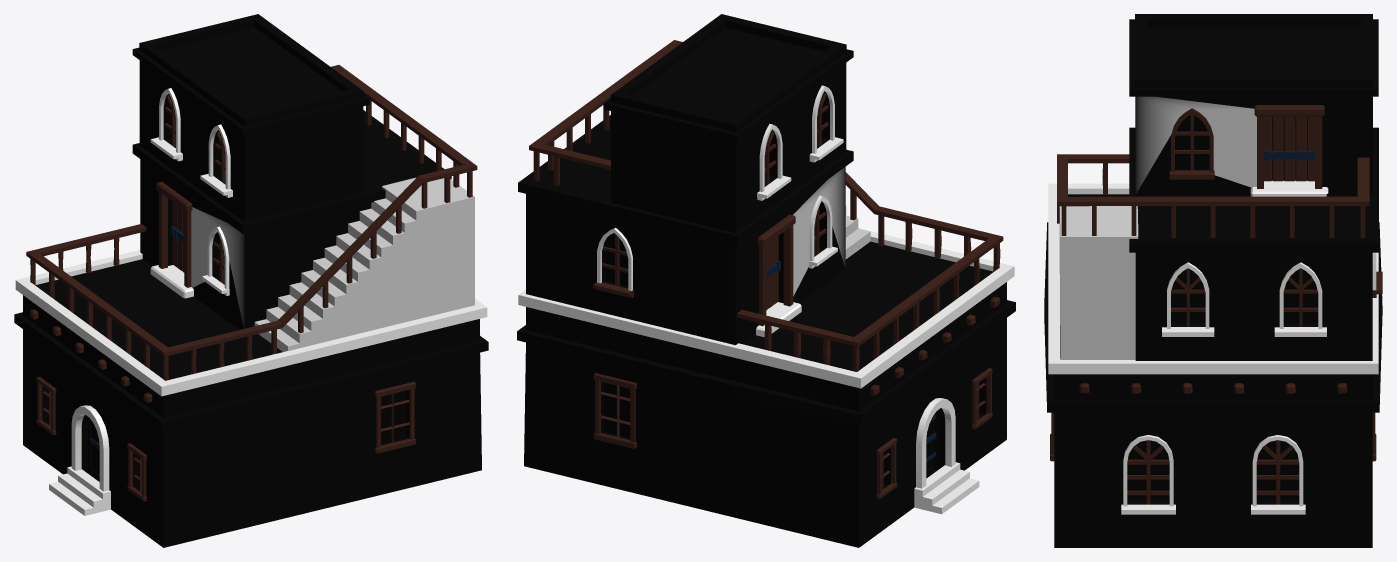
File: civilian_house_32_a.FBX
3 renders of one model, left to right at view 1: azimuth 30°, elevation 25°; view 2: azimuth 150°, elevation 25°; view 3: azimuth 270°, elevation 25°, orthographic. The views are drawn at different scales.
Visible parts, largest first — view 1: civilian_house_32_a; view 2: civilian_house_32_a; view 3: civilian_house_32_a.
Boxes of the visible parts, box(x1,y1,x2,y2) form: civilian_house_32_a: box(14, 14, 488, 547); civilian_house_32_a: box(517, 14, 1015, 547); civilian_house_32_a: box(1044, 14, 1382, 547).
Bounding box in the file's own units: 1157 × 1172 × 851.
